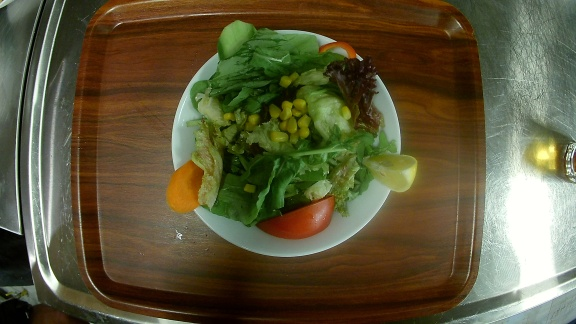salata: (170, 24, 416, 256)
